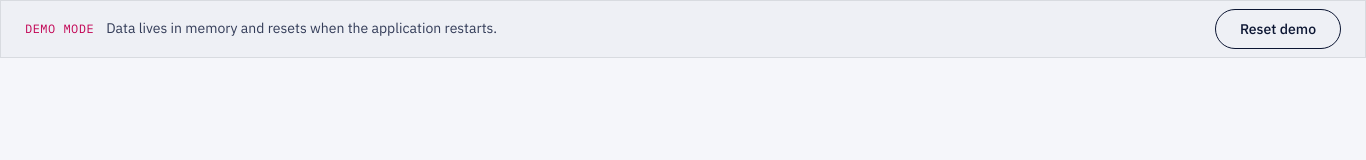
Test: DemoModeNotice › asks for confirmation before resetting
Click the button "Reset demo".
click(1278, 29)  # box [1215,9,1341,49]
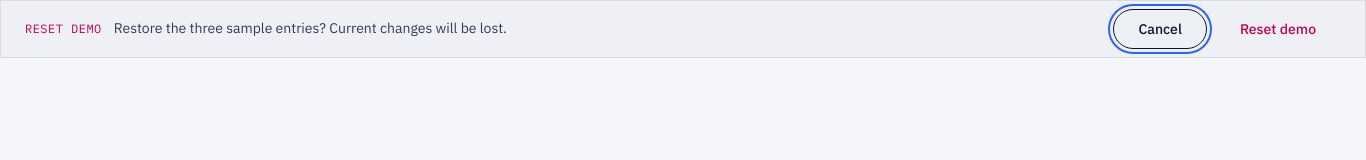
Expected: the text "Restore the three sample entries? Current changes will be lost." is shown, [114,19,507,37]
Expected: the button "Cancel" is shown, [1113,9,1207,49]
Expected: the button "Reset demo" is shown, [1215,9,1341,49]
